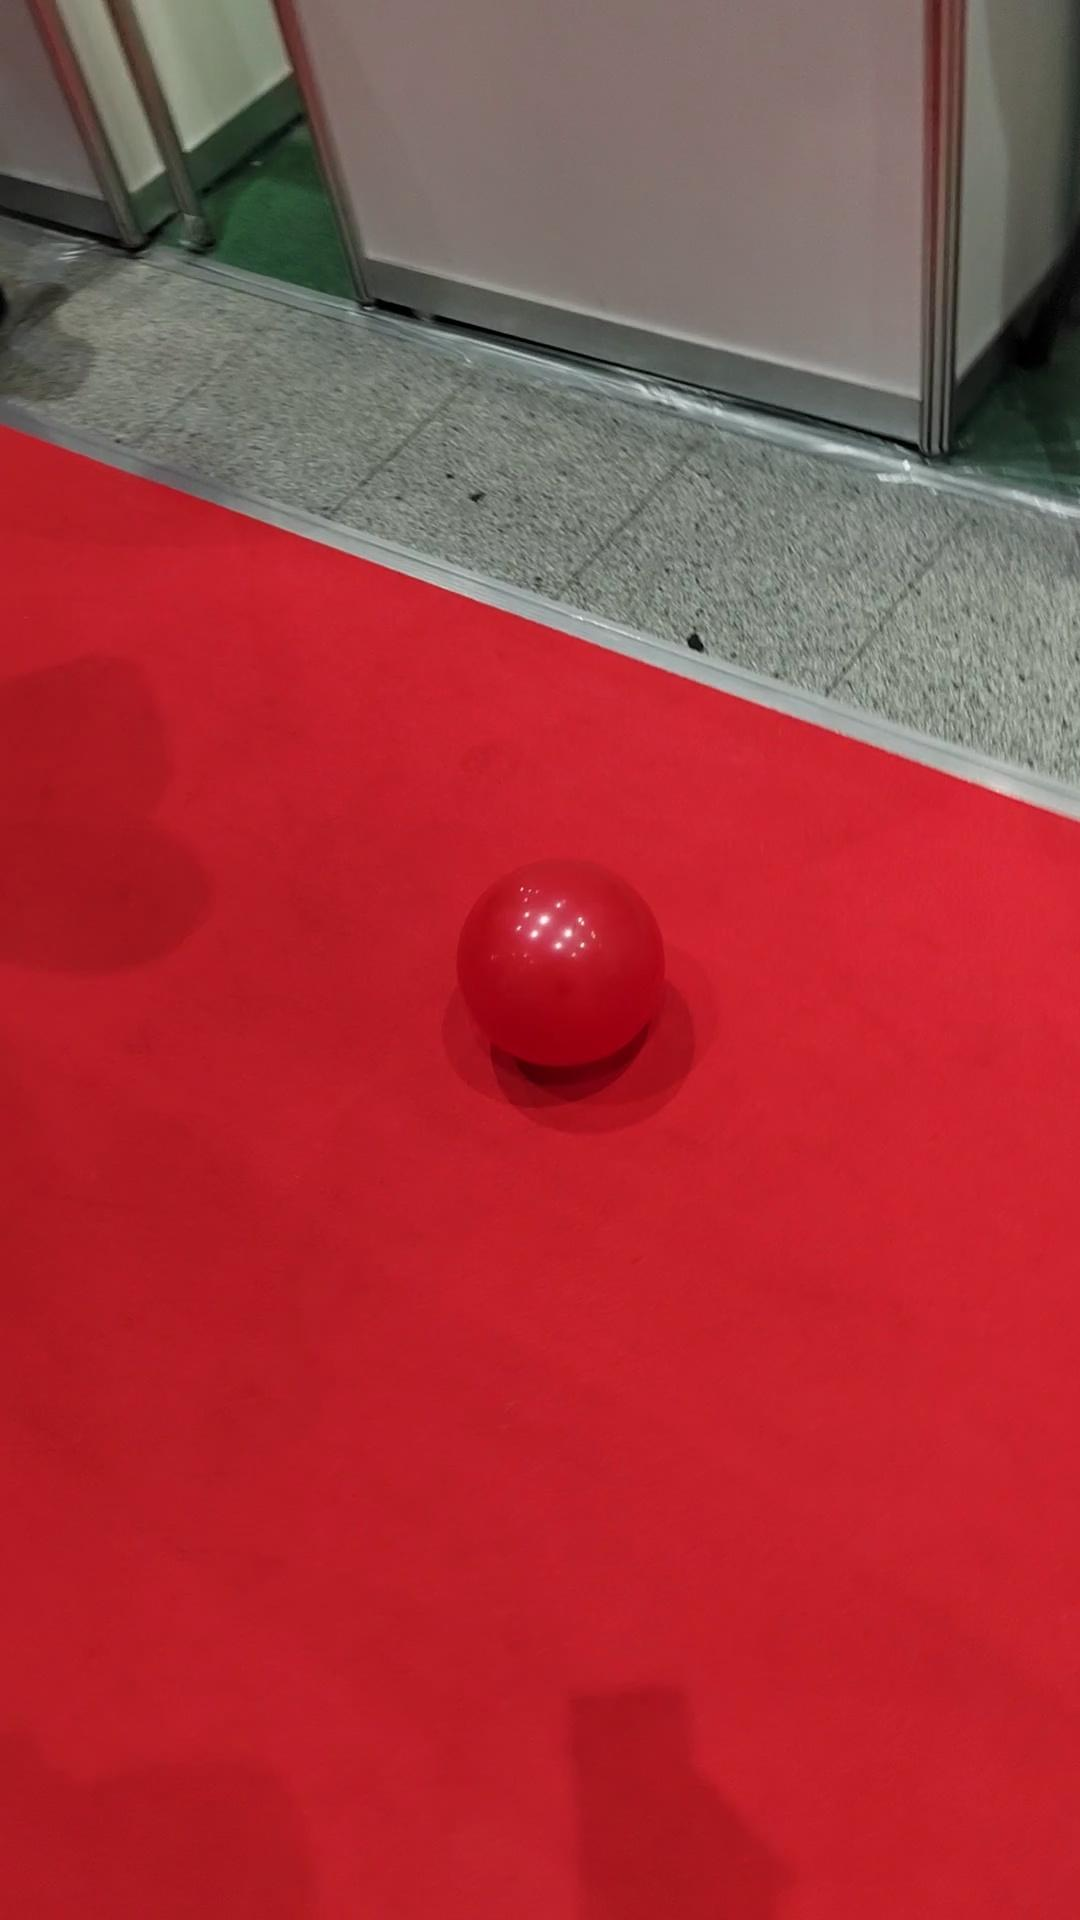red: (454, 860, 662, 1068)
